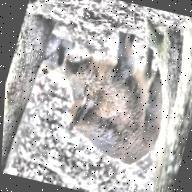boar: (19, 13, 190, 177)
